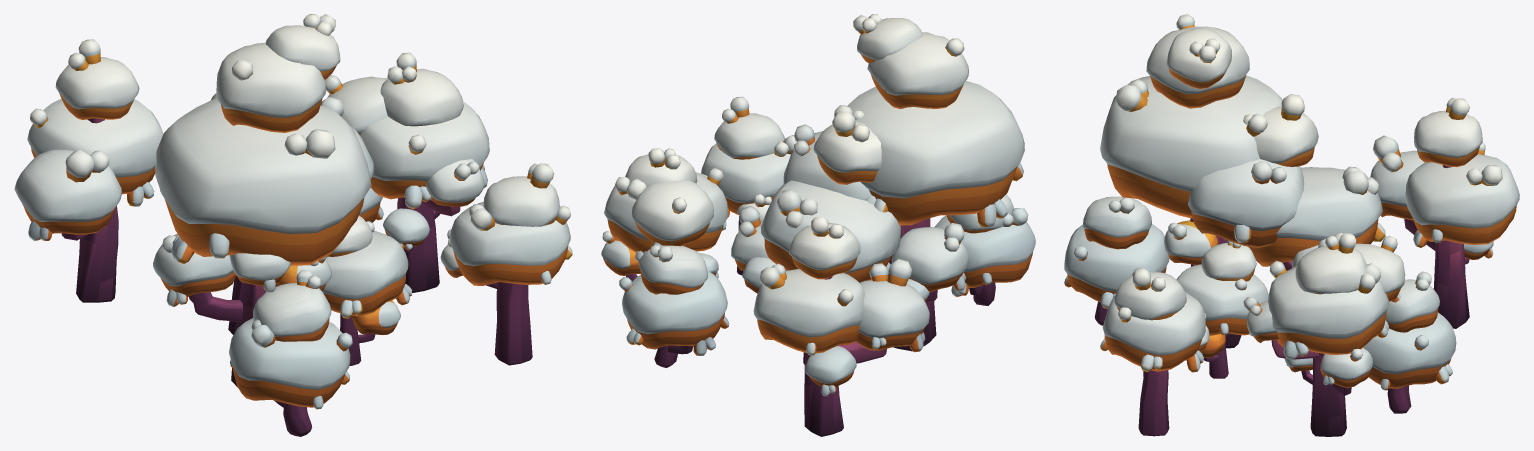
Rendered from grassland_tree_group_col2_snow.fbx.
3 renders of one model, left to right at view 1: azimuth 30°, elevation 25°; view 2: azimuth 150°, elevation 25°; view 3: azimuth 270°, elevation 25°, orthographic. The views are drawn at different scales.
Parts seen in each view (by area): view 1: grassland_tree_group_col2_snow; view 2: grassland_tree_group_col2_snow; view 3: grassland_tree_group_col2_snow.
Boxes of the visible parts, box(x1,y1,x2,y2) form: grassland_tree_group_col2_snow: box(14, 14, 572, 436); grassland_tree_group_col2_snow: box(601, 14, 1035, 436); grassland_tree_group_col2_snow: box(1064, 14, 1519, 436).
Size of the model in its own units: 1732 by 1490 by 1919.
1 material, 1 textured.
